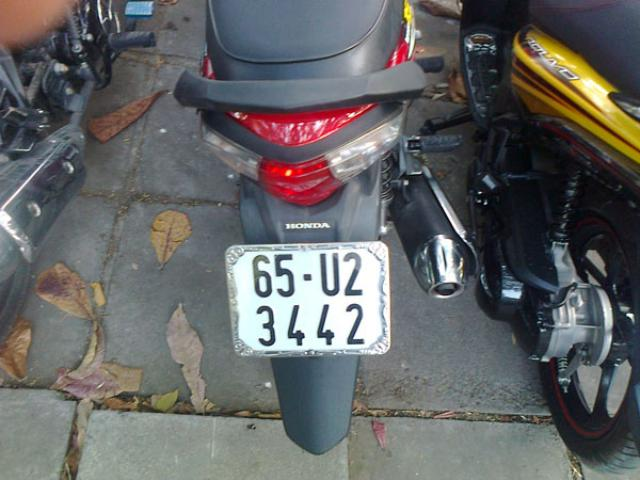plate: (236, 250, 392, 354)
